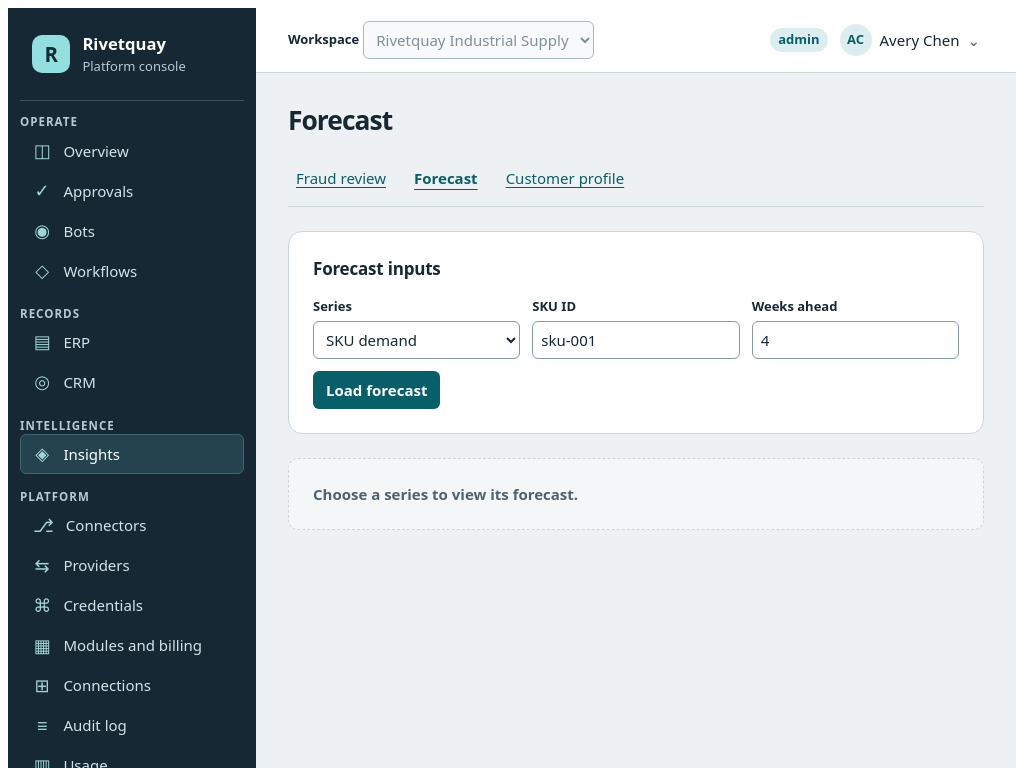
Test: plots forecast bounds and handles sparse history
Click the button "Load forecast" at (377, 390), box [313,371,440,409]
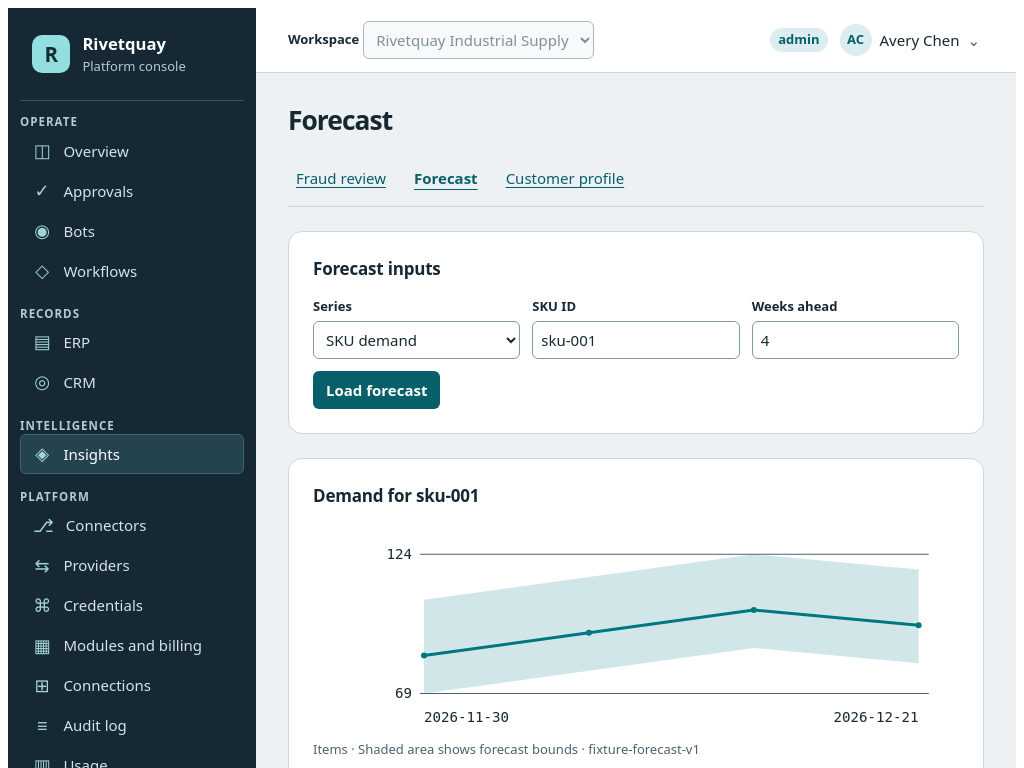
Expected: the picture named "forecast estimate with upper and lower bounds" is shown, [313,524,959,740]
Replace the text in the field labelled "SKU ID" with "sku-002" at (636, 340), box [532,321,740,359]
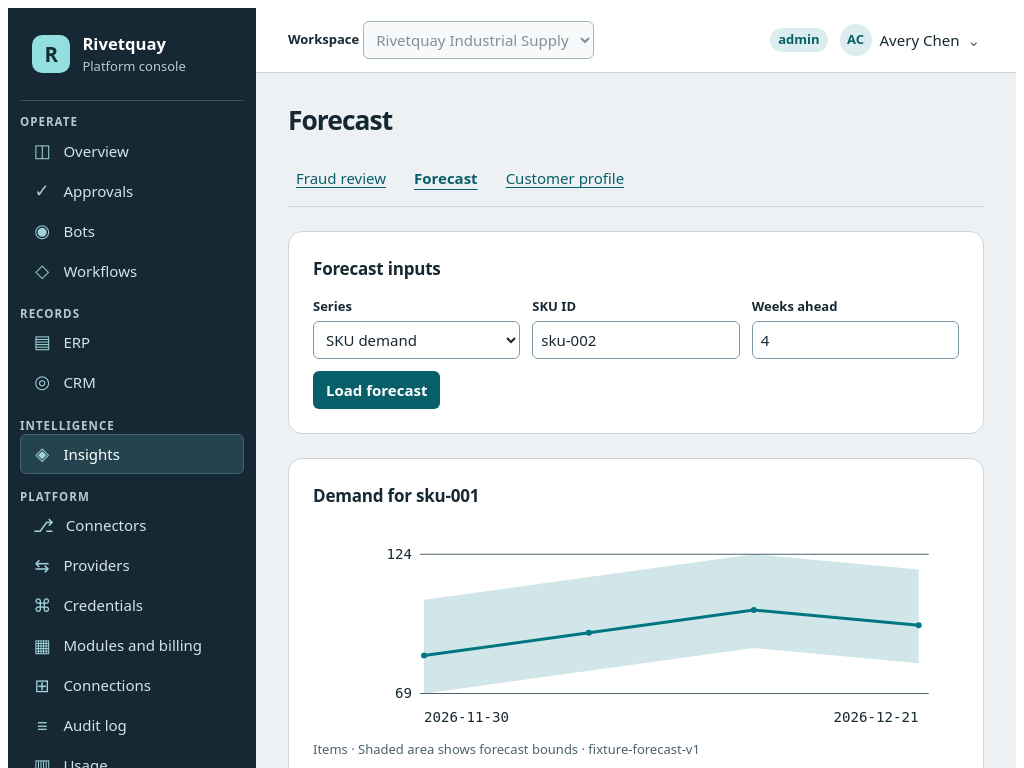
Click the button "Load forecast" at (377, 390), box [313,371,440,409]
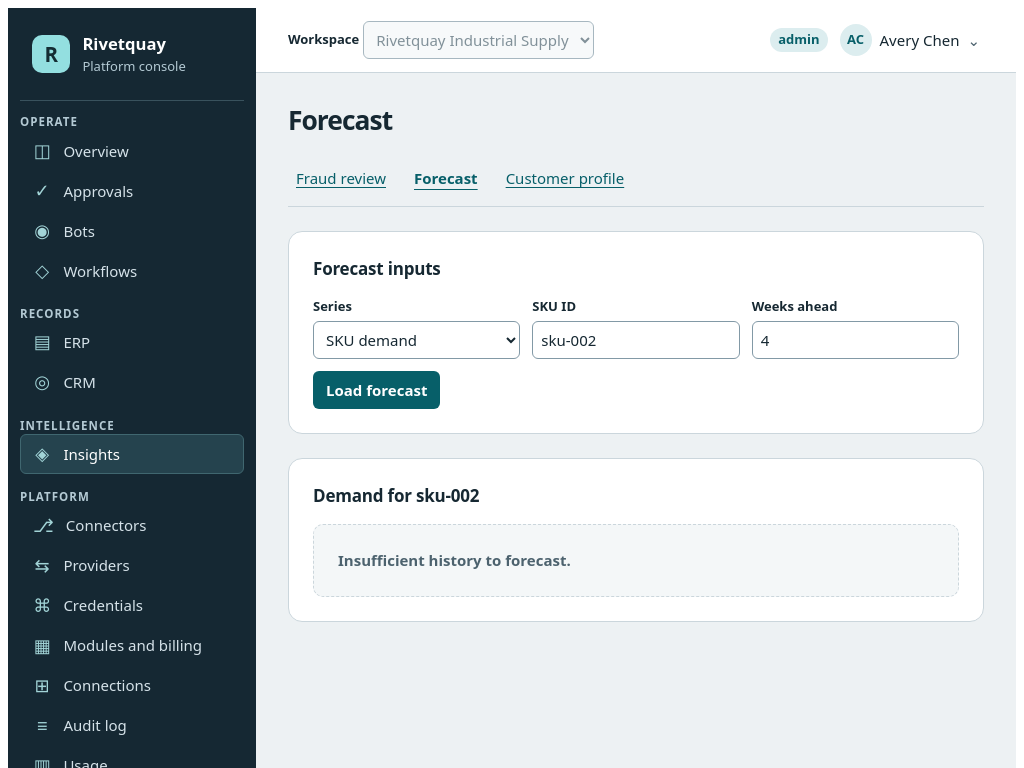
Expected: the text "Insufficient history to forecast." is shown, [338,550,571,570]
